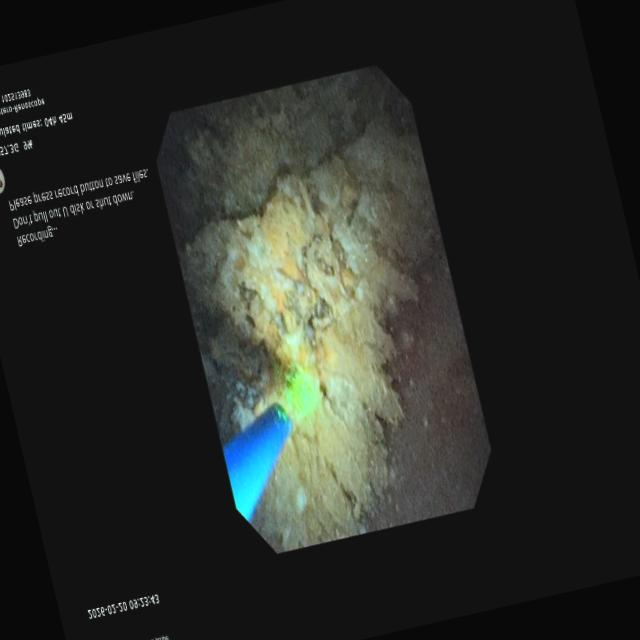laser_dot: (285, 367, 318, 416)
stone-new: (185, 124, 434, 549), (188, 72, 362, 217)
